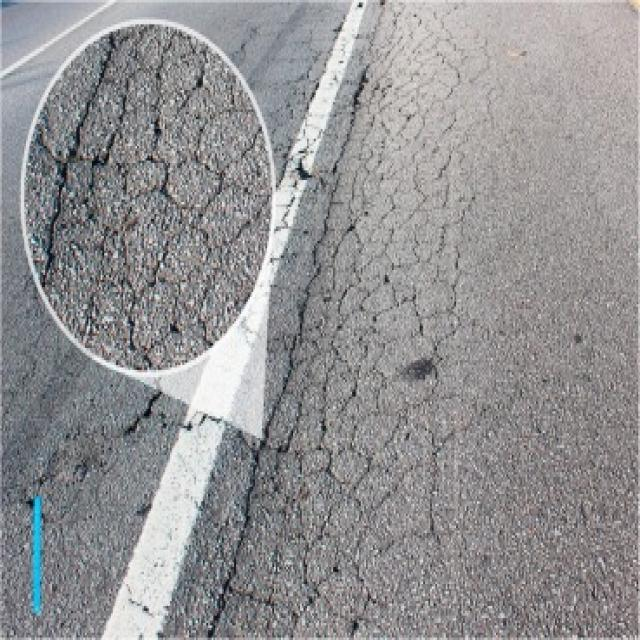Drain Hole: (23, 14, 292, 380), (330, 88, 442, 440)
